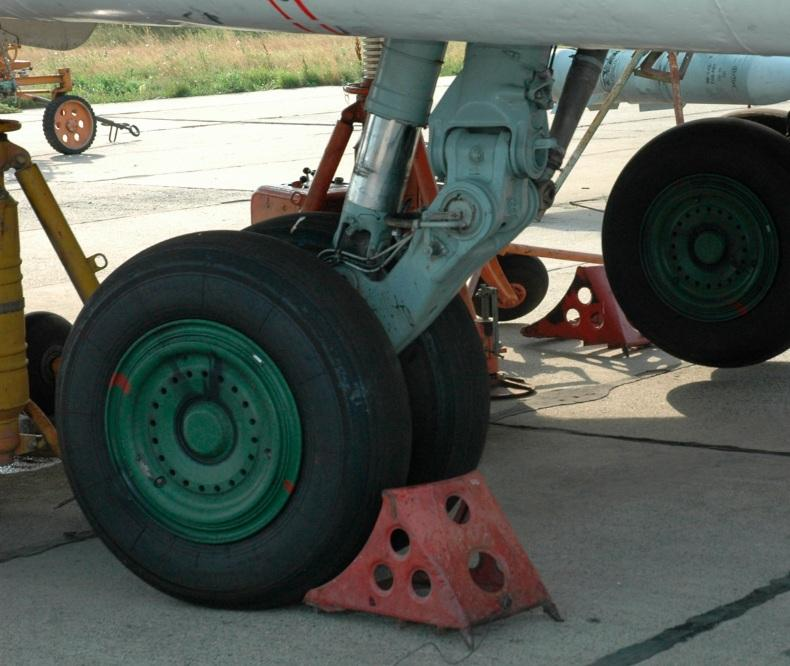chock: (302, 469, 566, 648)
wheel: (51, 228, 412, 609), (603, 111, 790, 370)
